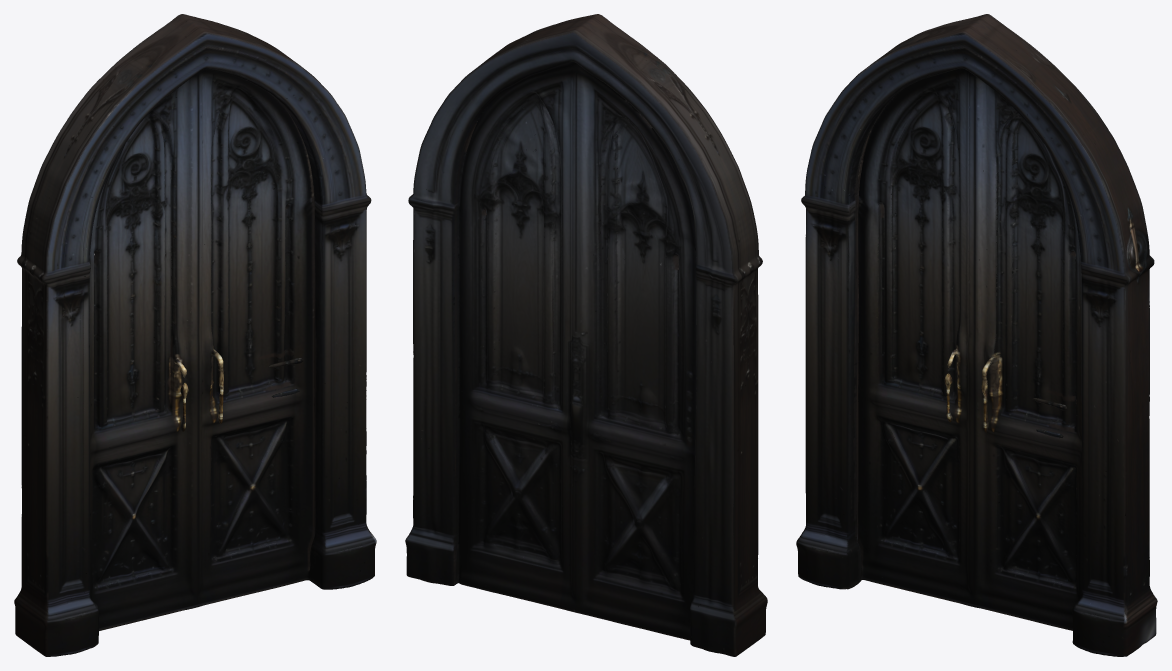
Rendered from DRZWI_GOTYCKIE_CIEMN_0908173526_texture.fbx.
3 renders of one model, left to right at view 1: azimuth 30°, elevation 25°; view 2: azimuth 150°, elevation 25°; view 3: azimuth 330°, elevation 25°, orthographic.
Parts seen in each view (by area): view 1: Mesh_0; view 2: Mesh_0; view 3: Mesh_0.
Boxes of the visible parts, box(x1,y1,x2,y2) form: Mesh_0: box(14, 14, 376, 656); Mesh_0: box(405, 14, 767, 656); Mesh_0: box(796, 14, 1157, 656).
Size of the model in its own units: 119 by 200 by 22.83.
Materials: 1 (1 with a texture image).
